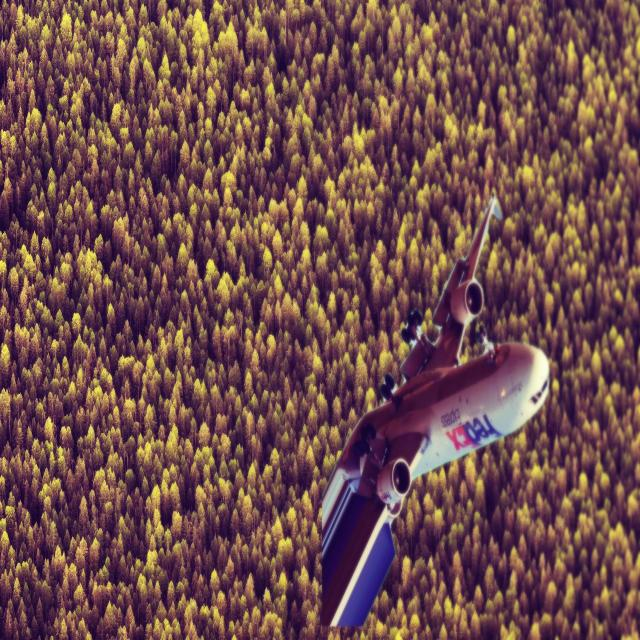airplane: (318, 192, 550, 628)
